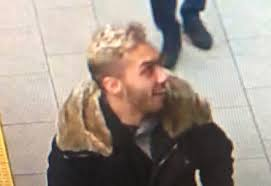middle_eastern_male: (114, 40, 175, 115)
